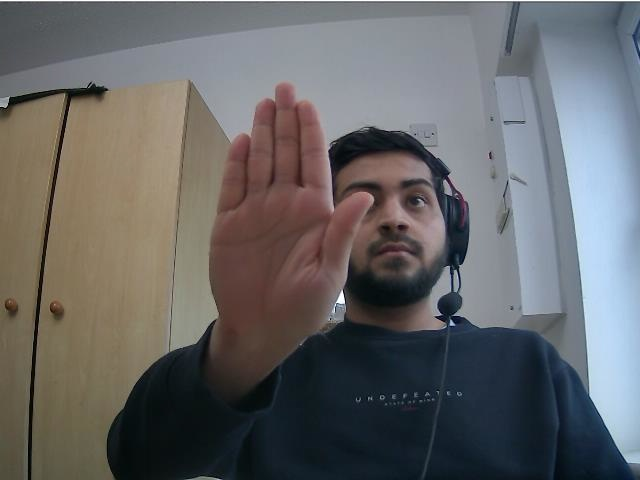up: (206, 80, 375, 327)
